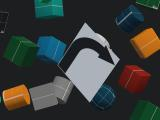Right: (58, 23, 120, 103)
